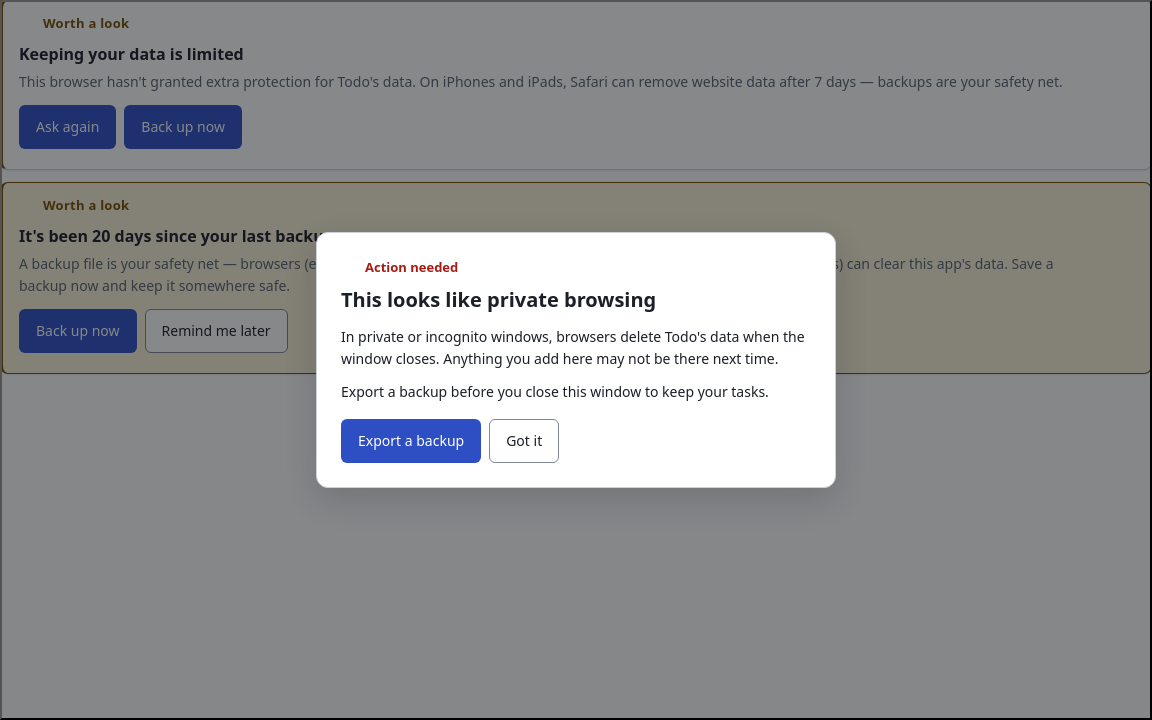
Test: S6 — private-browsing warning (ephemeral heuristic at first write) › opens the one-time dialog when persist() is denied AND the quota looks like private mode
The image size is (1152, 720).
Expected: the heading "This looks like private browsing" is shown, 341,286 -> 656,313
Expected: the text "may not be there next time" is shown, 341,327 -> 804,368
Click the button "Got it": (524, 441) 489,419 -> 559,463
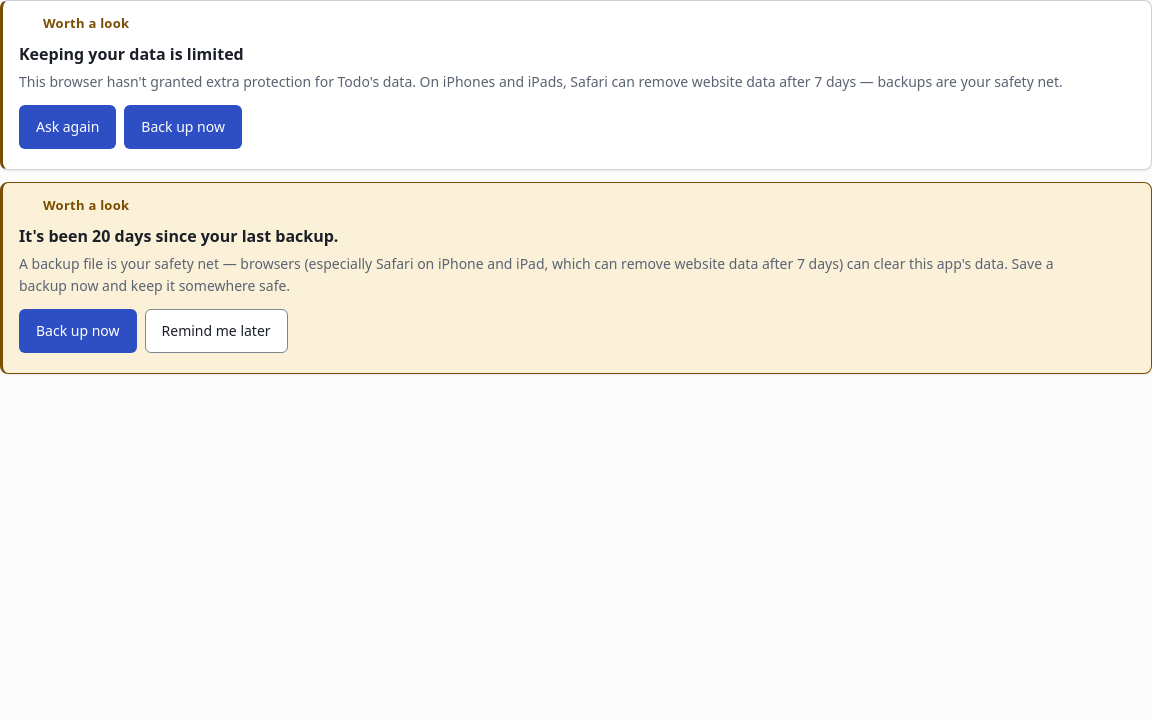
Now the dialog is gone
